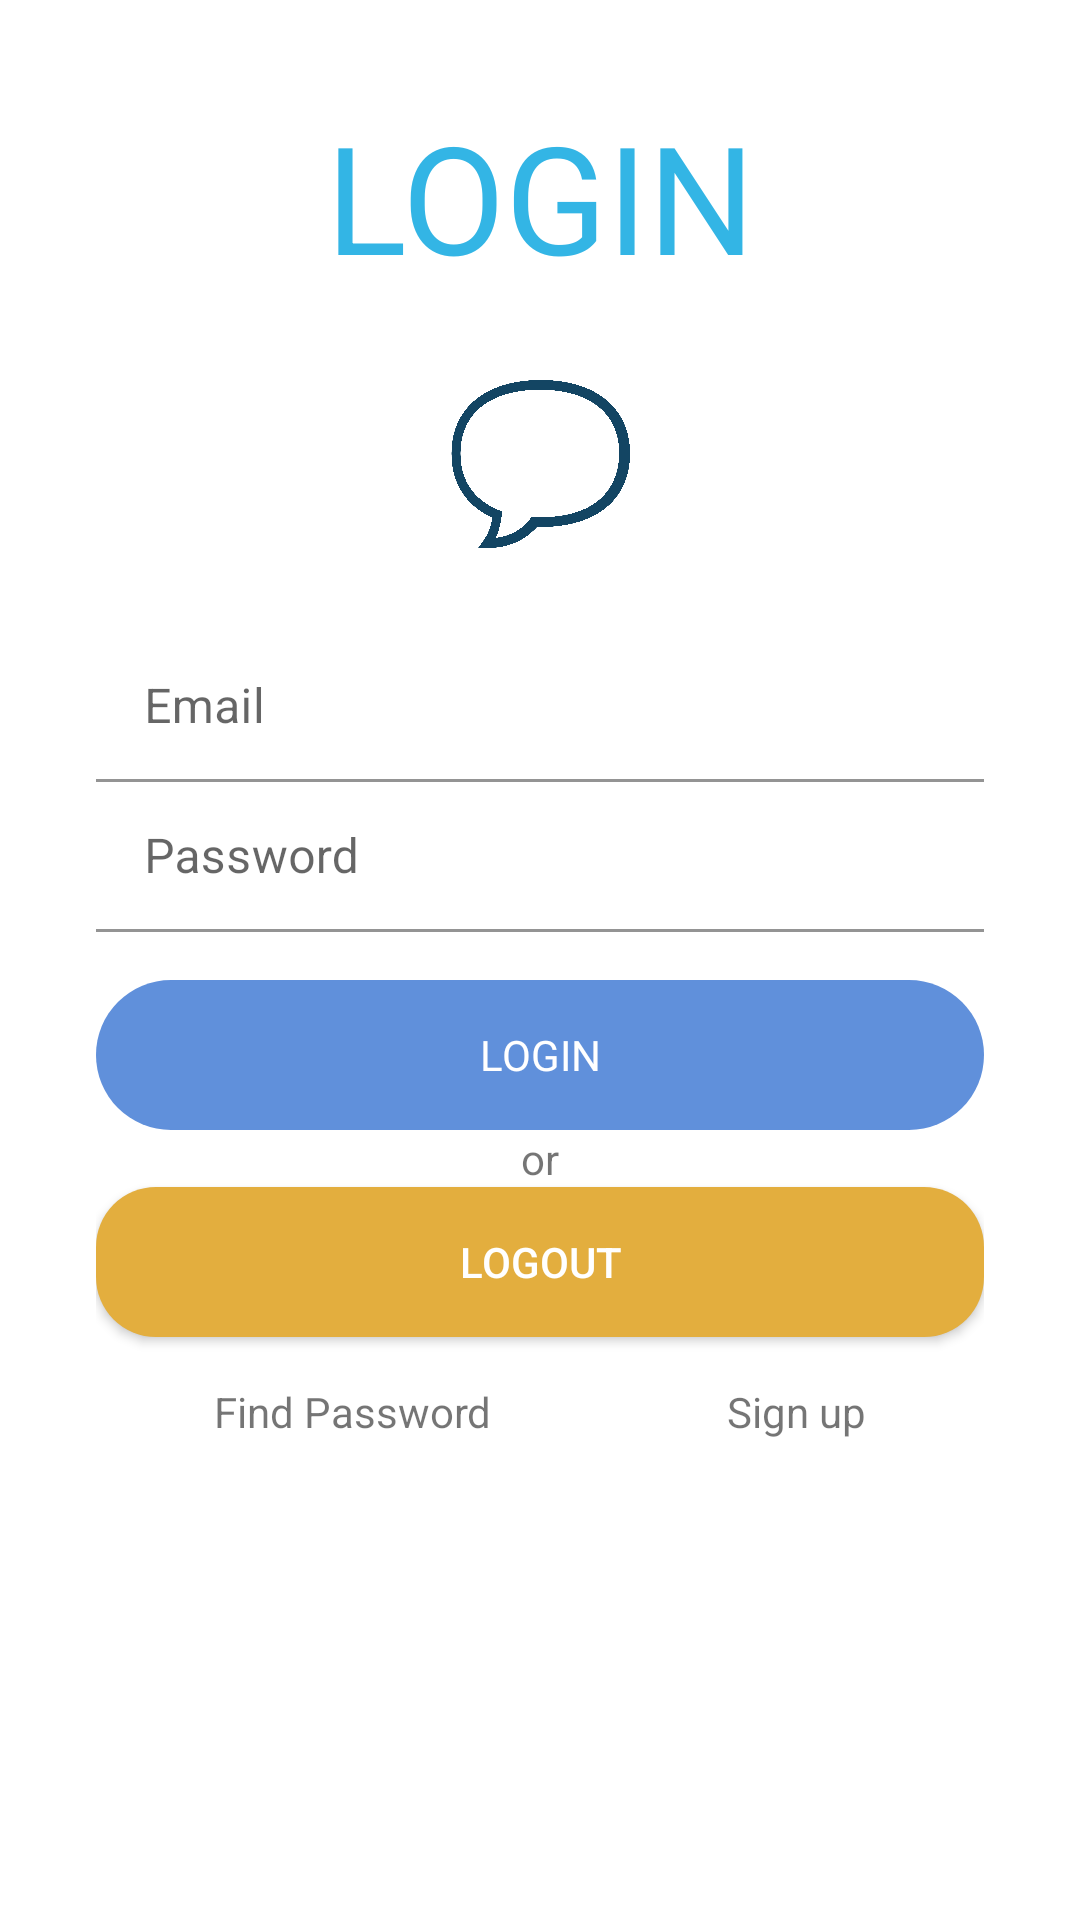

Locate icon controls on the screen. Image size 1080x1920, boxes as (x1, y1, x2, y2).
chat: (451, 380, 630, 548)
